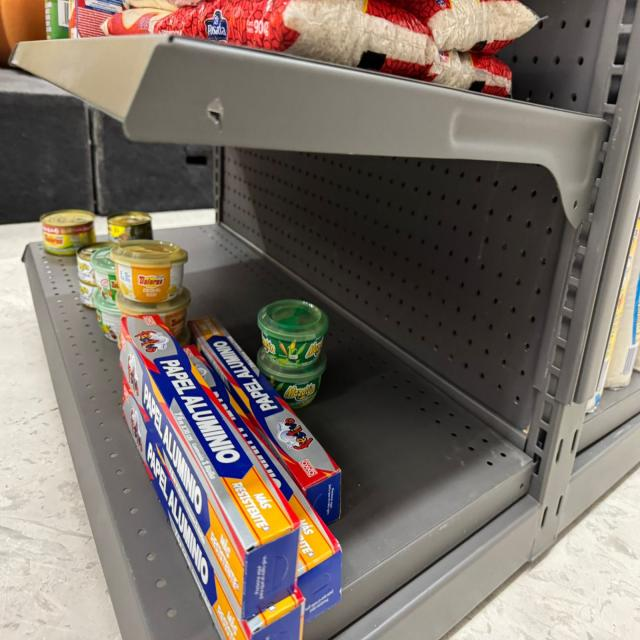ATUN DOLORES EN ACEITE 130GRS: (107, 212, 152, 242)
Arroz La Posada 900 gr: (153, 0, 442, 82), (387, 0, 540, 55), (430, 50, 511, 97)
Atun Dolores aceite 295gr lata: (41, 211, 96, 255)
Atun Mazatun Agua Sin Soya 130grs: (76, 241, 115, 286), (79, 280, 97, 308)
Azucar Estandar La Posada 1 kg: (101, 0, 178, 35), (124, 0, 199, 12)
CARNATION Leche Evaporada 720g: (68, 0, 129, 38)
DOLORES ENSALADA CON VERDURAS MAXI CUP CAN 240gr: (90, 243, 118, 304), (93, 291, 121, 342)
Dolores SURFY Cup Can Elotitos 24135 gr: (110, 239, 188, 303), (116, 289, 190, 345)
Ensalada Atun Mazatun CupCan: (258, 300, 329, 365), (257, 348, 326, 409)
Papel aluminio festivo rollo 76 m X 30 cm pz: (120, 315, 299, 624), (121, 375, 307, 639), (183, 343, 343, 624), (186, 316, 341, 527)
